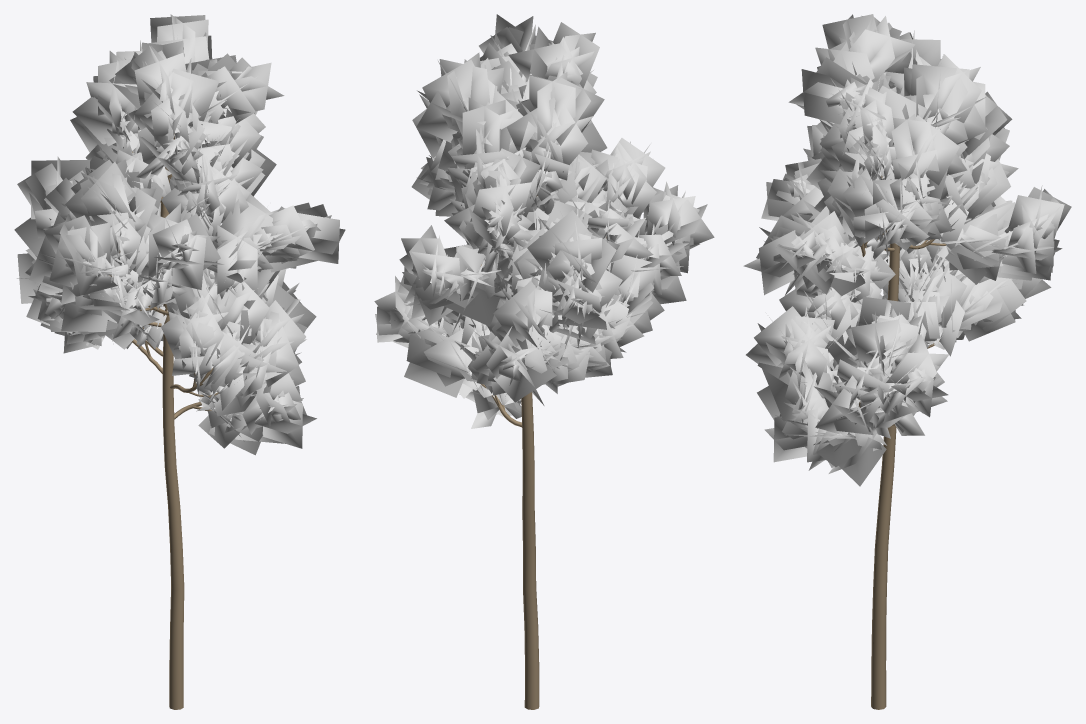
Rendered from tree-2.gltf.
3 renders of one model, left to right at view 1: azimuth 30°, elevation 25°; view 2: azimuth 150°, elevation 25°; view 3: azimuth 270°, elevation 25°, orthographic.
Visible parts, largest first — view 1: leaves, bark; view 2: leaves, bark; view 3: leaves, bark.
Part boxes in pixels (<box>): leaves: <box>14,14,345,455</box>; bark: <box>109,133,219,709</box>; leaves: <box>374,14,714,428</box>; bark: <box>480,195,606,709</box>; leaves: <box>743,14,1071,486</box>; bark: <box>858,175,946,709</box>.
Size of the model in its own units: 3.74 by 8.2 by 3.6.
